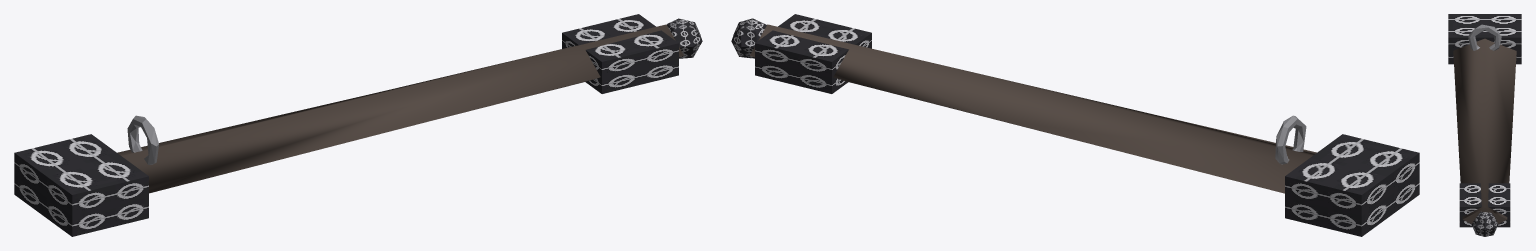
File: kinjal_scabbard_lod1.glb
3 views of the same model, side by side, from view 1: azimuth 30°, elevation 25°; view 2: azimuth 150°, elevation 25°; view 3: azimuth 270°, elevation 25° (orthographic). The views are drawn at different scales.
Parts seen in each view (by area): view 1: m; view 2: m; view 3: m.
Part boxes in pixels (box(x1,y1,x2,y2)): m: box(14, 14, 702, 236); m: box(731, 14, 1419, 236); m: box(1448, 14, 1521, 236).
Size of the model in its own units: 0.427 by 0.046 by 0.065.
3 materials, 1 textured.
